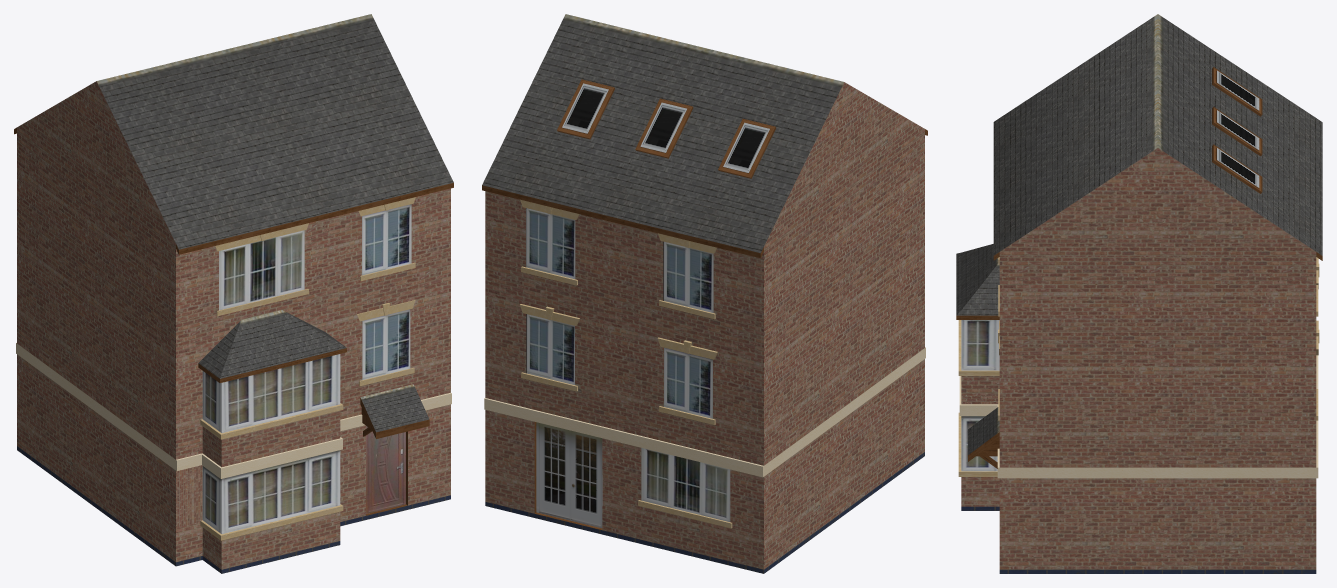
The model's file is modernterrace3story1bm.FBX.
The picture shows the model from 3 angles, left to right: view 1: azimuth 30°, elevation 25°; view 2: azimuth 150°, elevation 25°; view 3: azimuth 270°, elevation 25°; orthographic projection.
Parts seen in each view (by area): view 1: Box001; view 2: Box001; view 3: Box001.
Part boxes in pixels (x1,y1,x2,y2): Box001: [14, 14, 453, 573]; Box001: [482, 14, 927, 573]; Box001: [956, 14, 1322, 573].
Size of the model in its own units: 800 by 1188 by 925.
